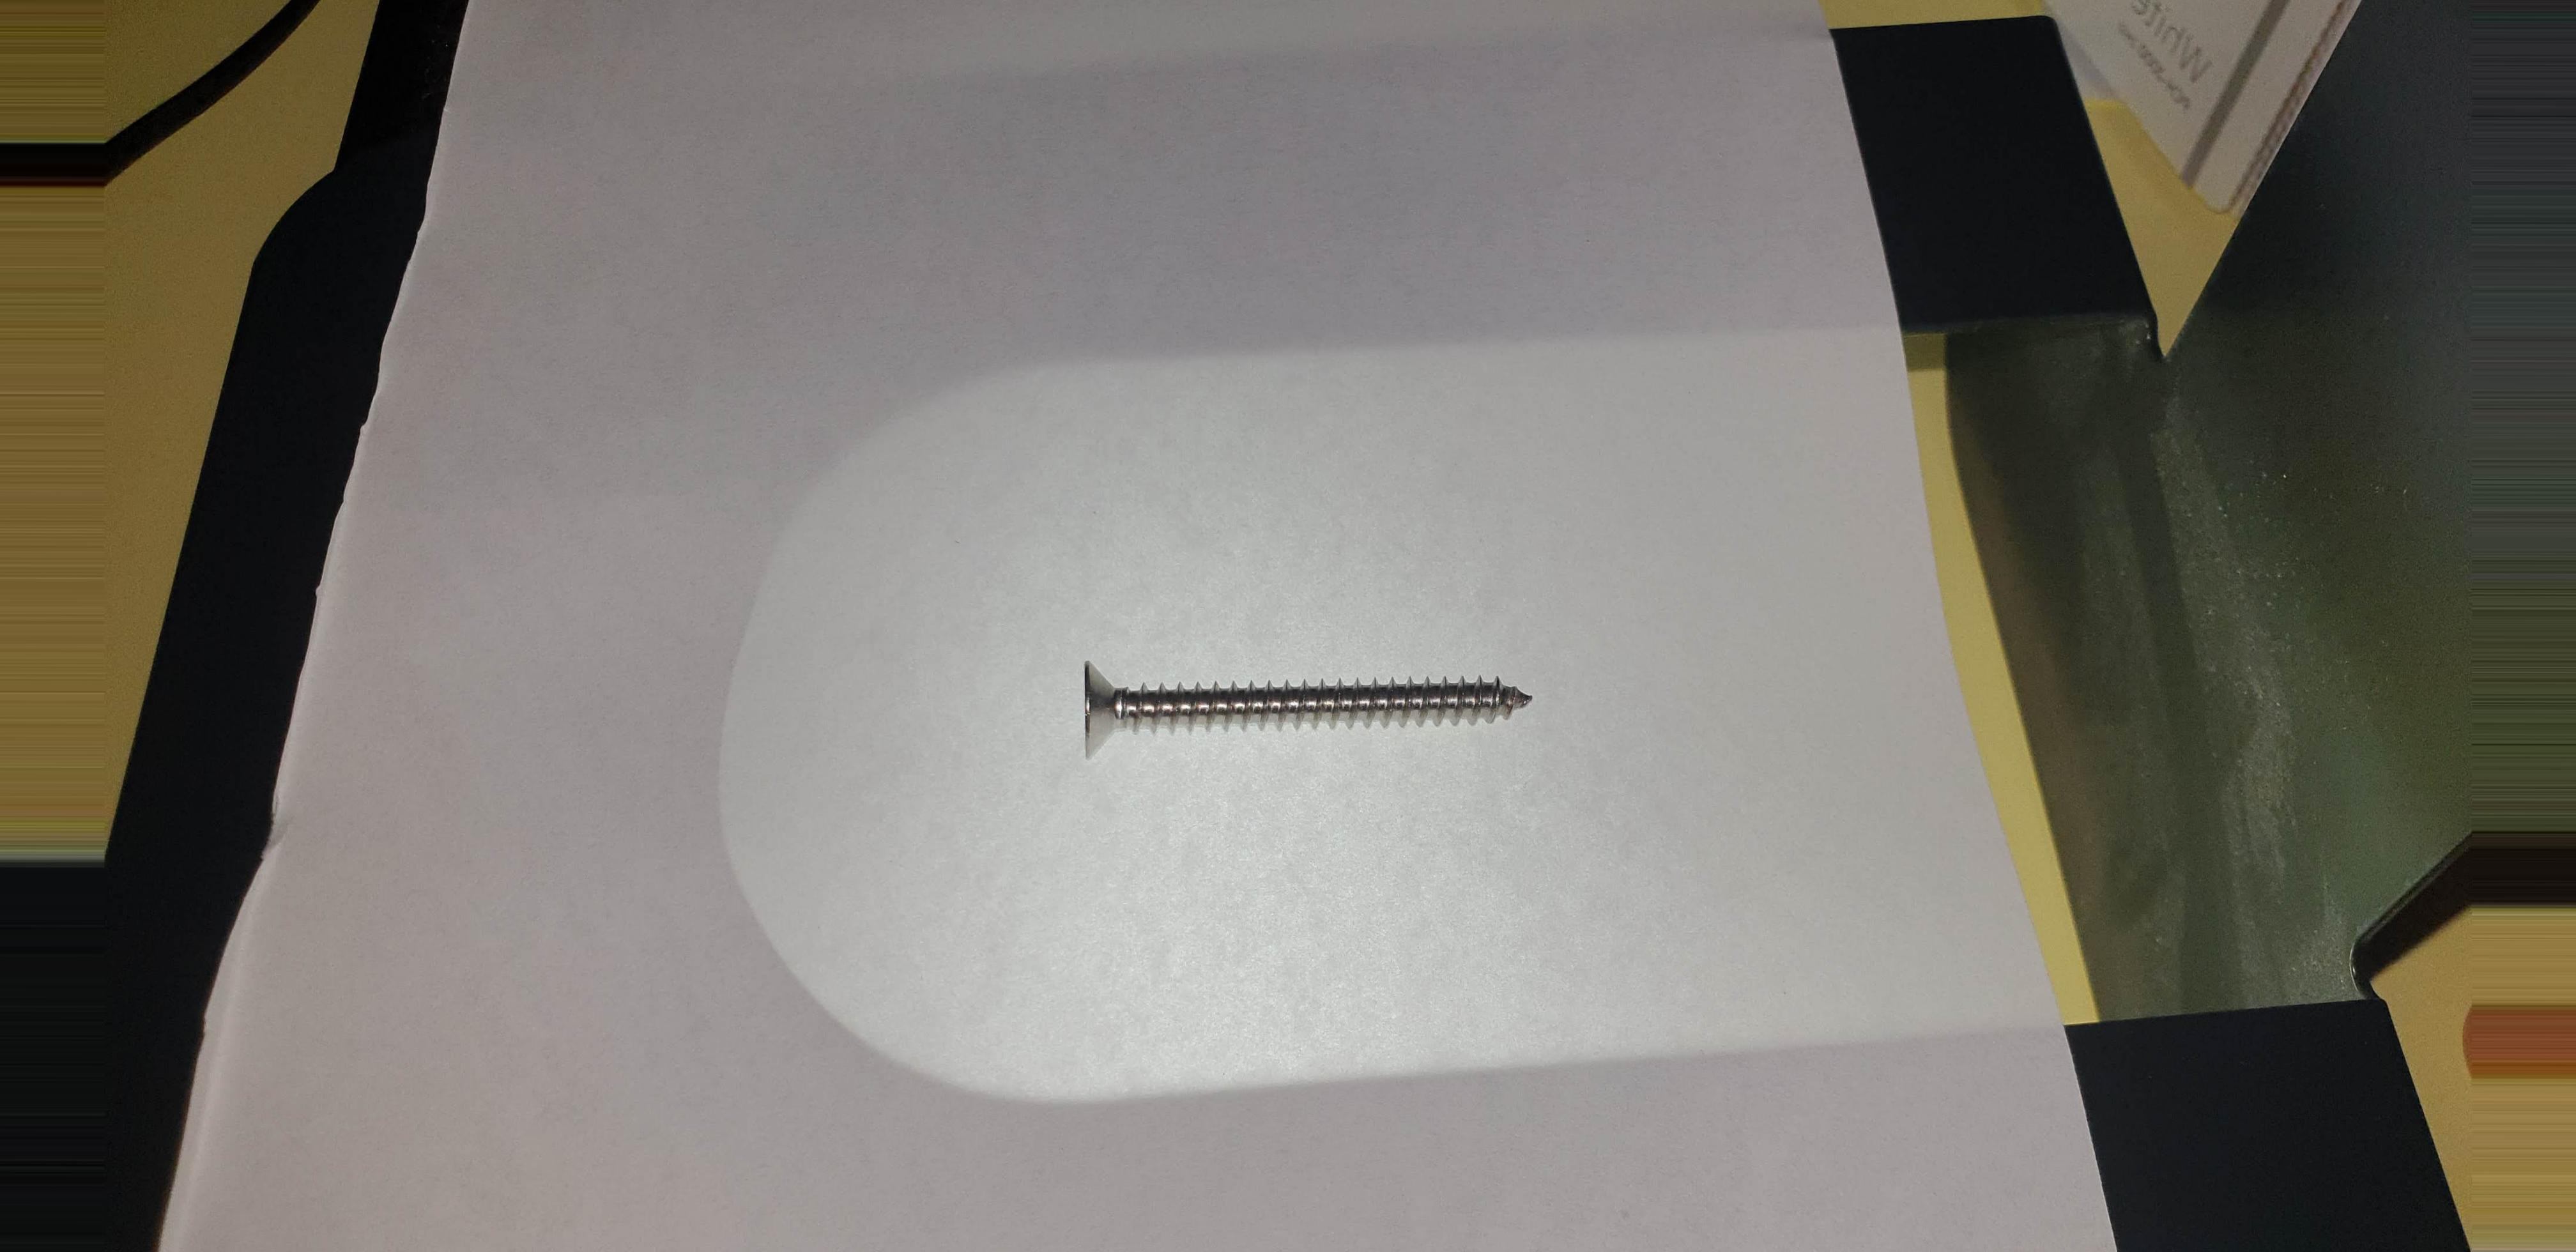fastener: (1028, 606, 1649, 817)
